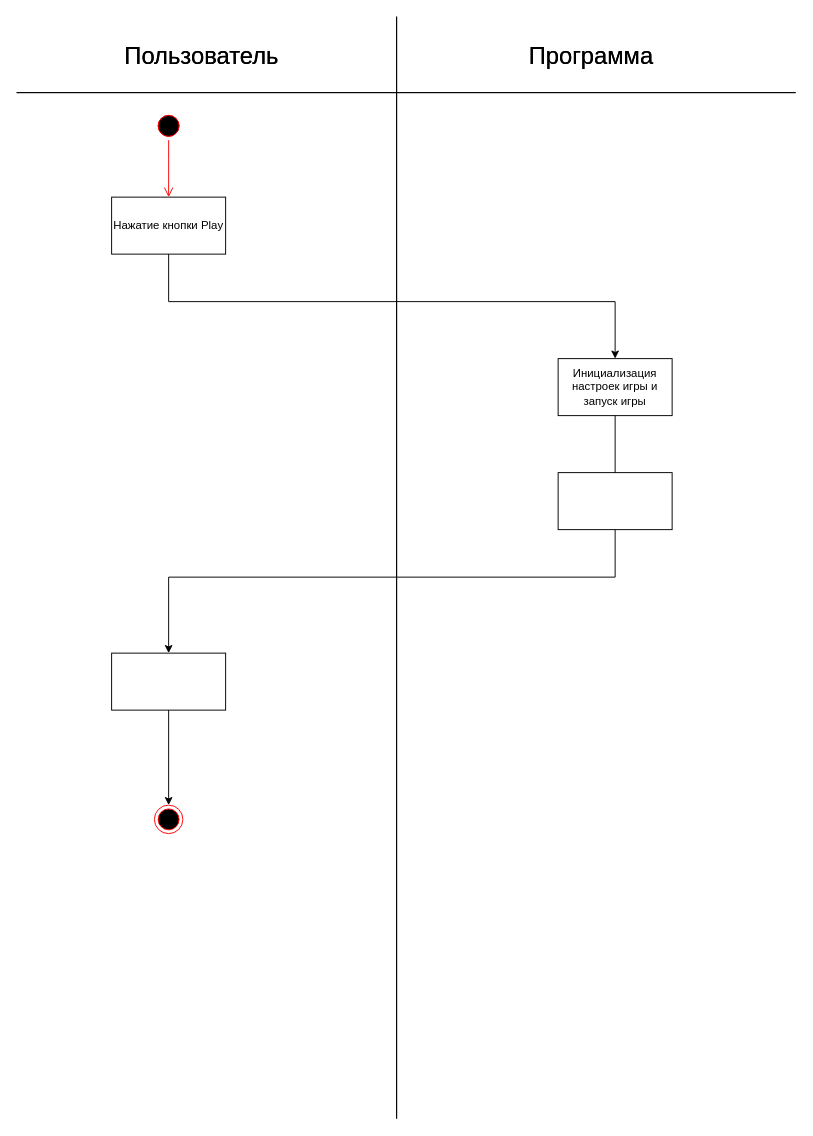
The diagram is 813 pixels wide and 1136 high, and some of its shapes have lost their labels. Here are the shapes that lost their labels. From the top down, the box of each, then its label:
(557, 472, 672, 530): Передача управления пользователю
(111, 652, 226, 710): Начало игры
